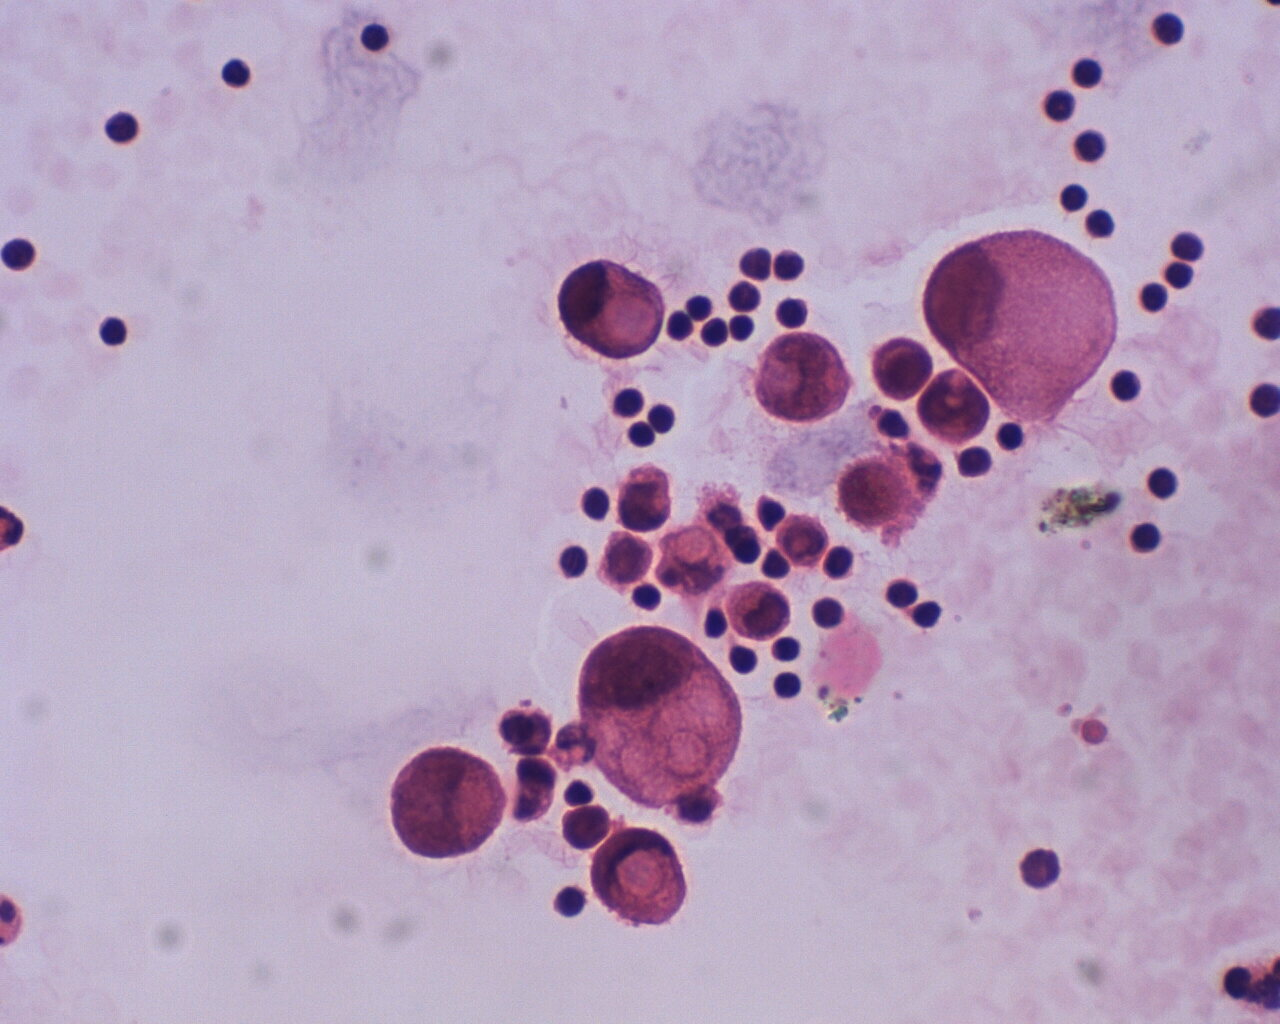ab: (385, 745, 508, 866), (757, 331, 853, 425), (915, 369, 997, 444), (614, 462, 683, 537), (770, 507, 838, 576), (723, 578, 794, 641), (871, 338, 935, 405), (595, 527, 659, 592)
histo: (923, 215, 1122, 419), (575, 620, 751, 810), (591, 827, 692, 931)
lymph: (600, 375, 649, 425), (98, 101, 146, 149), (1121, 518, 1166, 564), (1145, 5, 1189, 52), (550, 540, 594, 585), (1040, 83, 1086, 125), (1, 233, 44, 279), (218, 55, 265, 97), (1104, 366, 1146, 411), (1145, 458, 1188, 501), (1080, 206, 1127, 245), (807, 591, 852, 631), (579, 478, 616, 525), (771, 293, 815, 332), (717, 277, 763, 315), (554, 878, 590, 925), (96, 310, 137, 351), (772, 242, 809, 287), (1132, 280, 1174, 318), (355, 19, 395, 59), (1056, 183, 1099, 219), (955, 439, 992, 482), (998, 414, 1032, 456), (697, 312, 730, 351), (767, 672, 808, 703), (625, 418, 659, 448)
